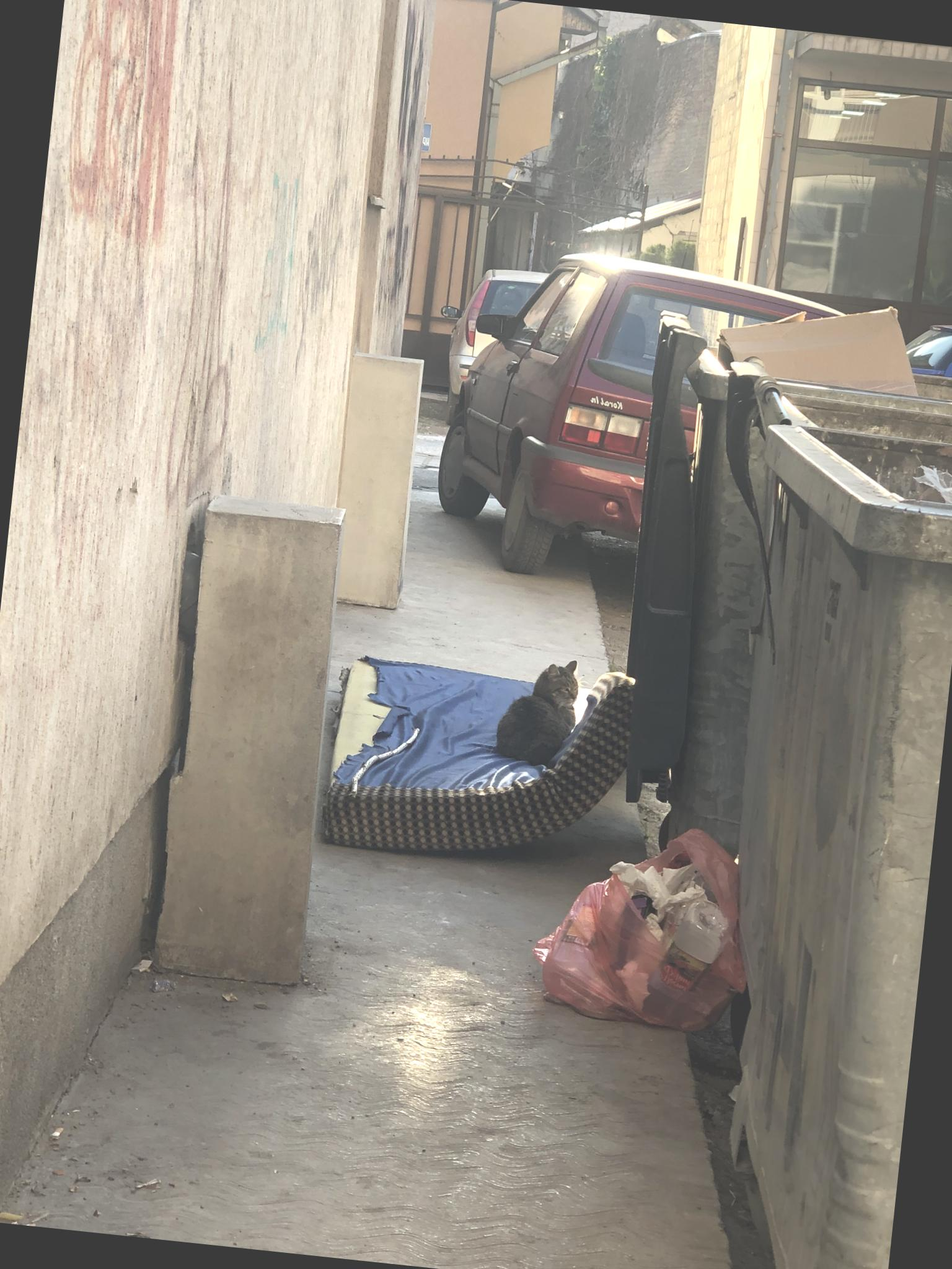macka: (493, 652, 582, 767)
